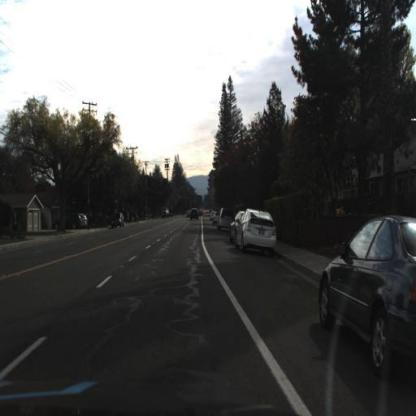car: (318, 215, 416, 382), (235, 206, 282, 256), (237, 208, 281, 256), (55, 213, 83, 231), (111, 211, 126, 229)
